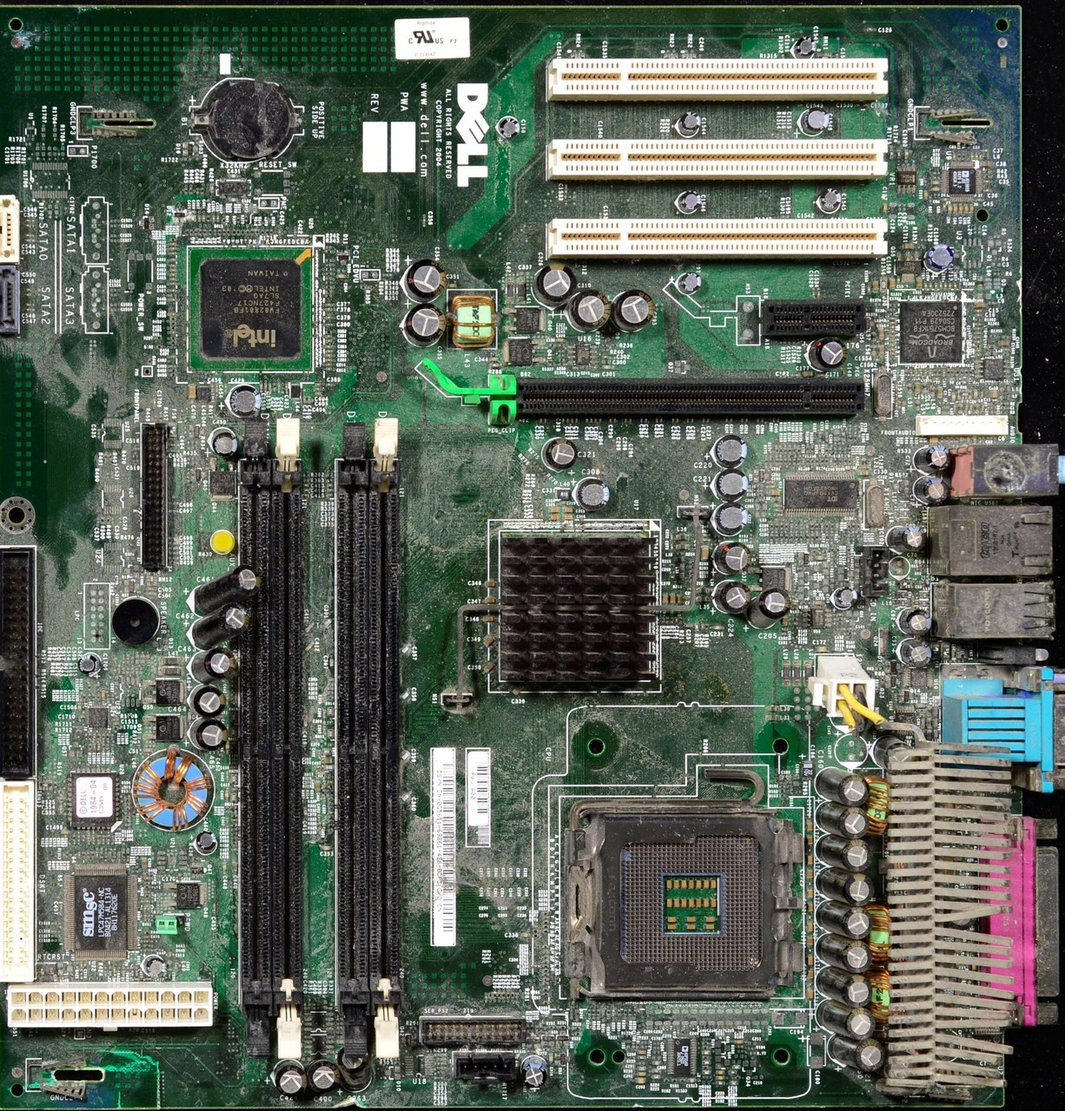Capacitor: (404, 256, 453, 302), (572, 290, 614, 333), (614, 290, 660, 328), (408, 306, 454, 342), (538, 260, 576, 302), (885, 518, 926, 556), (895, 638, 933, 675), (202, 642, 239, 679), (191, 718, 229, 754), (190, 682, 231, 715), (709, 542, 753, 572), (914, 438, 954, 470), (713, 434, 750, 468), (544, 434, 578, 471), (710, 469, 748, 502), (812, 333, 851, 365), (228, 384, 263, 419), (219, 598, 252, 635), (719, 582, 751, 620), (883, 739, 917, 774), (835, 772, 870, 806), (851, 1041, 887, 1074), (840, 1010, 877, 1040), (842, 974, 873, 1009), (708, 500, 745, 529), (844, 872, 874, 907), (841, 841, 873, 873), (521, 1060, 551, 1093), (760, 583, 788, 618), (578, 478, 607, 511), (913, 477, 948, 504), (839, 808, 869, 838), (210, 428, 240, 458), (904, 607, 935, 636), (677, 267, 705, 299), (843, 911, 871, 942), (844, 943, 872, 974), (673, 109, 705, 136), (233, 568, 262, 595), (802, 104, 833, 129), (673, 193, 705, 217), (496, 118, 527, 142), (817, 184, 844, 211), (927, 247, 956, 272), (195, 828, 220, 855), (832, 585, 858, 608), (141, 958, 168, 979), (77, 655, 102, 676), (795, 37, 814, 60), (288, 386, 301, 399), (40, 798, 65, 804), (915, 276, 923, 293), (700, 545, 709, 560), (483, 596, 496, 606), (546, 506, 562, 514), (188, 385, 196, 401), (560, 513, 574, 522), (547, 513, 561, 521), (482, 615, 496, 623), (871, 280, 879, 294), (972, 301, 986, 309), (484, 635, 494, 646), (483, 663, 493, 674), (485, 580, 497, 589), (878, 345, 885, 359), (661, 593, 669, 605), (669, 593, 677, 605), (34, 146, 40, 162), (633, 1078, 646, 1085), (676, 593, 684, 604), (561, 507, 573, 514), (142, 856, 148, 870), (878, 327, 884, 341), (914, 381, 920, 395), (59, 830, 72, 836), (902, 245, 915, 251), (889, 275, 895, 288), (938, 387, 944, 400), (636, 1050, 648, 1056), (815, 648, 826, 654), (903, 150, 910, 159), (963, 202, 969, 212), (948, 203, 953, 215), (58, 806, 65, 814), (883, 203, 888, 214), (864, 27, 875, 32), (1000, 341, 1011, 346), (602, 365, 613, 370), (968, 204, 974, 213), (152, 403, 158, 412), (538, 416, 544, 425), (635, 1072, 648, 1076), (324, 302, 334, 307), (992, 390, 997, 400), (23, 307, 35, 311), (521, 933, 530, 938), (984, 179, 993, 184), (959, 201, 962, 216), (816, 288, 821, 297), (770, 491, 781, 495), (734, 1039, 745, 1043), (715, 1070, 726, 1074), (923, 190, 927, 201), (862, 469, 869, 475), (194, 188, 200, 195), (897, 203, 902, 211), (336, 274, 346, 278), (811, 288, 816, 296), (555, 338, 565, 342), (327, 487, 333, 493), (954, 204, 957, 216), (23, 288, 32, 292), (23, 292, 32, 296), (791, 337, 795, 346), (489, 357, 498, 361), (211, 382, 215, 391), (315, 391, 321, 397), (193, 215, 198, 222), (902, 203, 906, 211), (325, 322, 333, 326), (324, 334, 332, 338), (302, 397, 306, 405), (561, 417, 565, 425), (566, 417, 570, 425), (327, 493, 333, 498), (991, 161, 996, 167), (325, 358, 330, 364), (302, 488, 309, 492), (302, 494, 309, 498), (532, 925, 539, 929), (188, 215, 192, 222), (217, 215, 221, 222), (786, 338, 790, 345), (325, 354, 332, 358), (324, 363, 331, 367), (324, 367, 331, 371), (543, 417, 547, 424), (585, 417, 589, 424), (717, 1077, 726, 1080), (24, 303, 33, 306), (324, 316, 333, 319), (576, 417, 579, 426), (302, 485, 310, 488), (96, 524, 102, 528), (212, 215, 215, 223), (325, 350, 331, 354), (315, 387, 321, 391), (153, 394, 157, 400), (307, 397, 311, 403), (655, 417, 659, 423), (670, 418, 674, 424), (644, 418, 648, 424), (590, 418, 594, 424), (323, 309, 334, 311), (169, 247, 176, 250), (170, 252, 177, 255), (169, 278, 176, 281), (89, 533, 93, 538), (327, 340, 332, 344), (170, 243, 176, 246), (170, 273, 176, 276), (324, 346, 333, 348), (316, 383, 322, 386), (609, 418, 612, 424), (571, 418, 574, 424), (594, 419, 597, 425), (326, 485, 334, 487), (198, 215, 200, 223), (169, 265, 177, 267), (119, 435, 123, 439), (111, 469, 114, 474), (171, 269, 176, 272), (676, 418, 679, 423), (203, 215, 205, 222), (128, 462, 132, 465), (118, 471, 122, 474), (116, 516, 120, 519), (129, 517, 132, 521), (120, 523, 122, 529), (327, 383, 331, 386), (640, 419, 643, 423), (660, 418, 662, 422)
Connector: (6, 971, 211, 1038), (545, 139, 889, 178), (547, 58, 889, 97), (548, 218, 887, 255), (0, 779, 43, 987), (0, 548, 36, 784), (132, 423, 172, 576)
IC: (202, 259, 300, 359), (74, 874, 126, 949), (948, 166, 979, 198), (673, 1039, 693, 1076), (506, 338, 533, 365), (87, 705, 112, 730), (516, 307, 539, 333), (216, 182, 250, 196)
Resistor: (802, 762, 813, 780), (142, 365, 152, 376), (75, 721, 88, 729), (40, 146, 47, 159), (697, 743, 703, 758), (890, 676, 897, 688), (51, 147, 58, 159), (46, 146, 52, 159), (774, 103, 782, 112), (312, 997, 317, 1011), (887, 147, 894, 157), (600, 346, 610, 353), (904, 690, 909, 703), (188, 142, 193, 155), (61, 146, 66, 159), (195, 425, 200, 438), (846, 445, 853, 454), (815, 457, 821, 467), (37, 669, 42, 681), (183, 185, 189, 195), (34, 686, 41, 694), (90, 852, 97, 860), (330, 1000, 335, 1011), (189, 184, 194, 195), (112, 725, 121, 731), (80, 852, 86, 861), (896, 149, 902, 158), (670, 616, 675, 626), (982, 169, 992, 174), (779, 783, 786, 790), (776, 190, 783, 197), (38, 197, 44, 205), (774, 448, 779, 457), (36, 652, 41, 661), (502, 991, 507, 1000), (317, 997, 320, 1012), (359, 284, 368, 289), (695, 622, 699, 633), (210, 184, 214, 195), (532, 929, 539, 935), (788, 446, 793, 454), (201, 546, 209, 551), (665, 616, 670, 624), (704, 623, 708, 633), (121, 849, 125, 859), (397, 1018, 405, 1023), (574, 1026, 582, 1031), (636, 1057, 646, 1061), (182, 157, 192, 161), (206, 213, 210, 223), (796, 335, 800, 345), (308, 998, 311, 1011), (679, 619, 682, 631), (106, 732, 109, 744), (701, 1046, 710, 1050), (701, 1066, 710, 1070), (983, 175, 992, 179), (260, 230, 266, 236), (780, 336, 784, 345), (611, 342, 620, 346), (541, 963, 548, 968), (617, 1010, 622, 1017), (703, 1055, 710, 1060), (208, 229, 213, 236), (231, 229, 236, 236), (326, 258, 331, 265), (797, 446, 801, 454), (104, 454, 108, 462), (824, 456, 828, 464), (542, 960, 550, 964), (511, 991, 515, 999), (507, 991, 511, 999), (628, 1009, 632, 1017), (596, 1009, 600, 1017), (607, 1010, 611, 1018), (701, 1041, 709, 1045), (244, 215, 248, 223), (194, 229, 198, 237), (255, 229, 259, 237), (185, 229, 189, 237), (109, 453, 112, 463), (532, 934, 538, 939), (543, 955, 549, 960), (543, 973, 549, 978), (325, 249, 331, 254), (489, 364, 499, 367), (168, 373, 178, 376), (303, 479, 310, 483), (497, 991, 501, 998), (199, 187, 203, 194), (236, 217, 240, 224), (222, 217, 226, 224), (202, 229, 206, 236), (250, 229, 254, 236), (661, 616, 664, 625), (541, 930, 550, 933), (100, 518, 105, 523), (780, 795, 785, 800), (326, 285, 331, 290), (303, 473, 309, 477), (326, 479, 332, 483), (169, 561, 177, 564), (543, 921, 549, 925), (541, 945, 549, 948), (588, 1009, 591, 1017), (633, 1009, 636, 1017), (592, 1010, 595, 1018), (198, 230, 202, 236), (222, 230, 226, 236), (241, 230, 245, 236), (326, 290, 332, 294), (170, 317, 176, 321), (171, 326, 177, 330), (325, 331, 333, 334), (543, 926, 550, 929), (624, 1010, 627, 1017), (574, 1033, 581, 1036), (190, 229, 193, 236), (325, 268, 332, 271), (148, 358, 151, 365), (99, 473, 103, 478), (780, 790, 785, 794), (127, 850, 129, 860), (543, 969, 548, 973), (326, 272, 331, 276), (171, 321, 176, 325), (157, 336, 162, 340), (168, 370, 178, 372), (543, 988, 549, 991), (543, 993, 549, 996), (196, 137, 198, 146), (237, 229, 240, 235), (270, 229, 273, 235), (227, 230, 230, 236), (265, 230, 268, 236), (246, 230, 249, 236), (170, 337, 176, 340), (170, 342, 176, 345), (111, 524, 115, 528), (489, 993, 492, 998), (157, 345, 162, 348), (494, 992, 496, 999), (219, 229, 221, 236), (325, 295, 332, 297), (826, 448, 828, 454), (127, 457, 131, 460), (168, 459, 172, 462), (327, 474, 333, 476), (106, 519, 110, 522), (325, 282, 331, 284), (170, 463, 172, 468), (111, 532, 115, 534)
Transistor/Diode: (163, 881, 208, 911), (144, 679, 184, 706), (143, 715, 183, 742), (191, 862, 207, 877)
